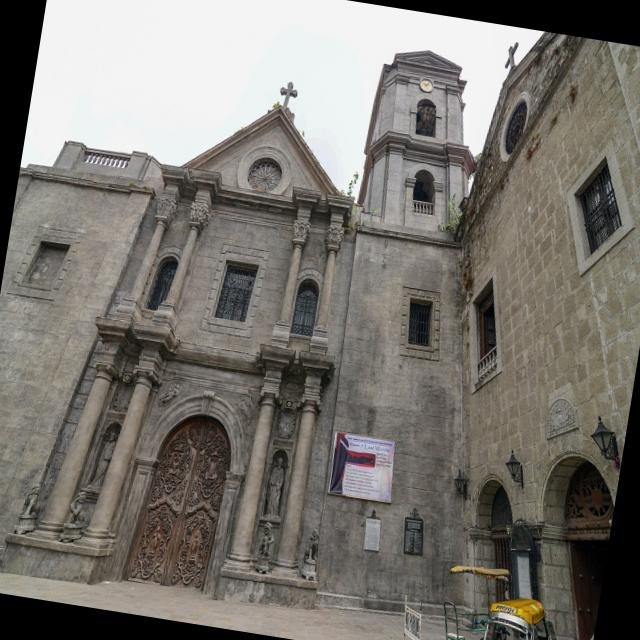San Agustin Church: (0, 45, 479, 617)
